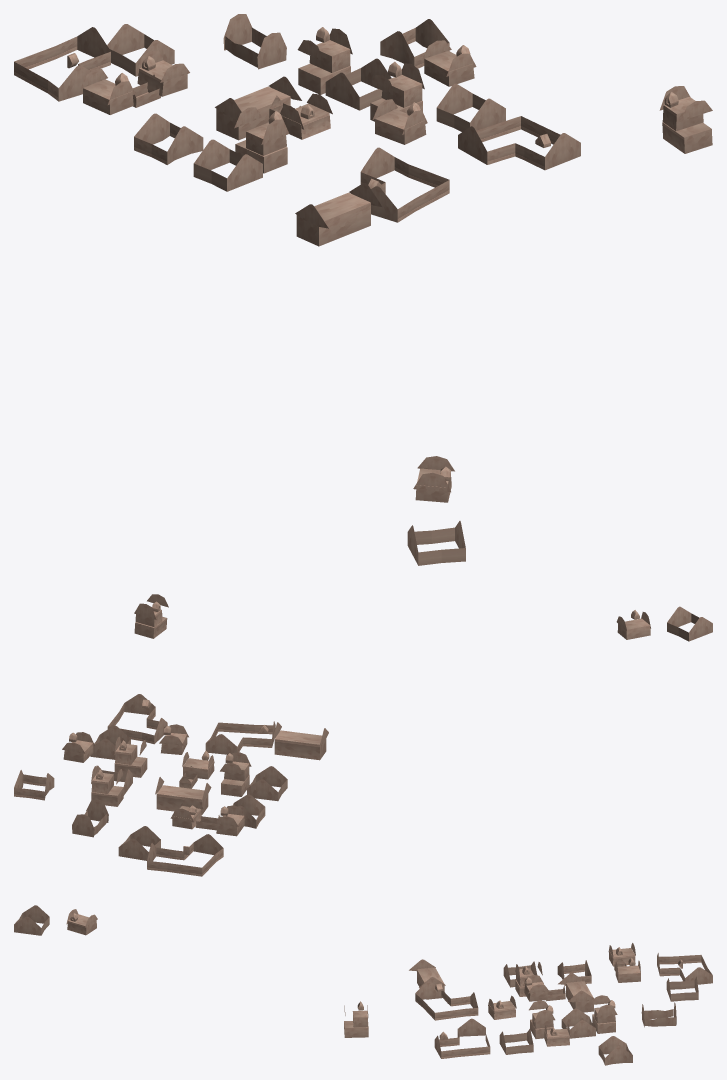
File: WallMaterialExport.FBX
3 renders of one model, top to bottom at view 1: azimuth 30°, elevation 25°; view 2: azimuth 150°, elevation 25°; view 3: azimuth 270°, elevation 25°, orthographic. The views are drawn at different scales.
Parts seen in each view (by area): view 1: Plane049; view 2: Plane049; view 3: Plane049.
Boxes of the visible parts, x1=… form: Plane049: x1=14, y1=14, x2=712, y2=565; Plane049: x1=14, y1=594, x2=712, y2=876; Plane049: x1=14, y1=905, x2=712, y2=1065.
Size of the model in its own units: 240 by 50.79 by 438.
